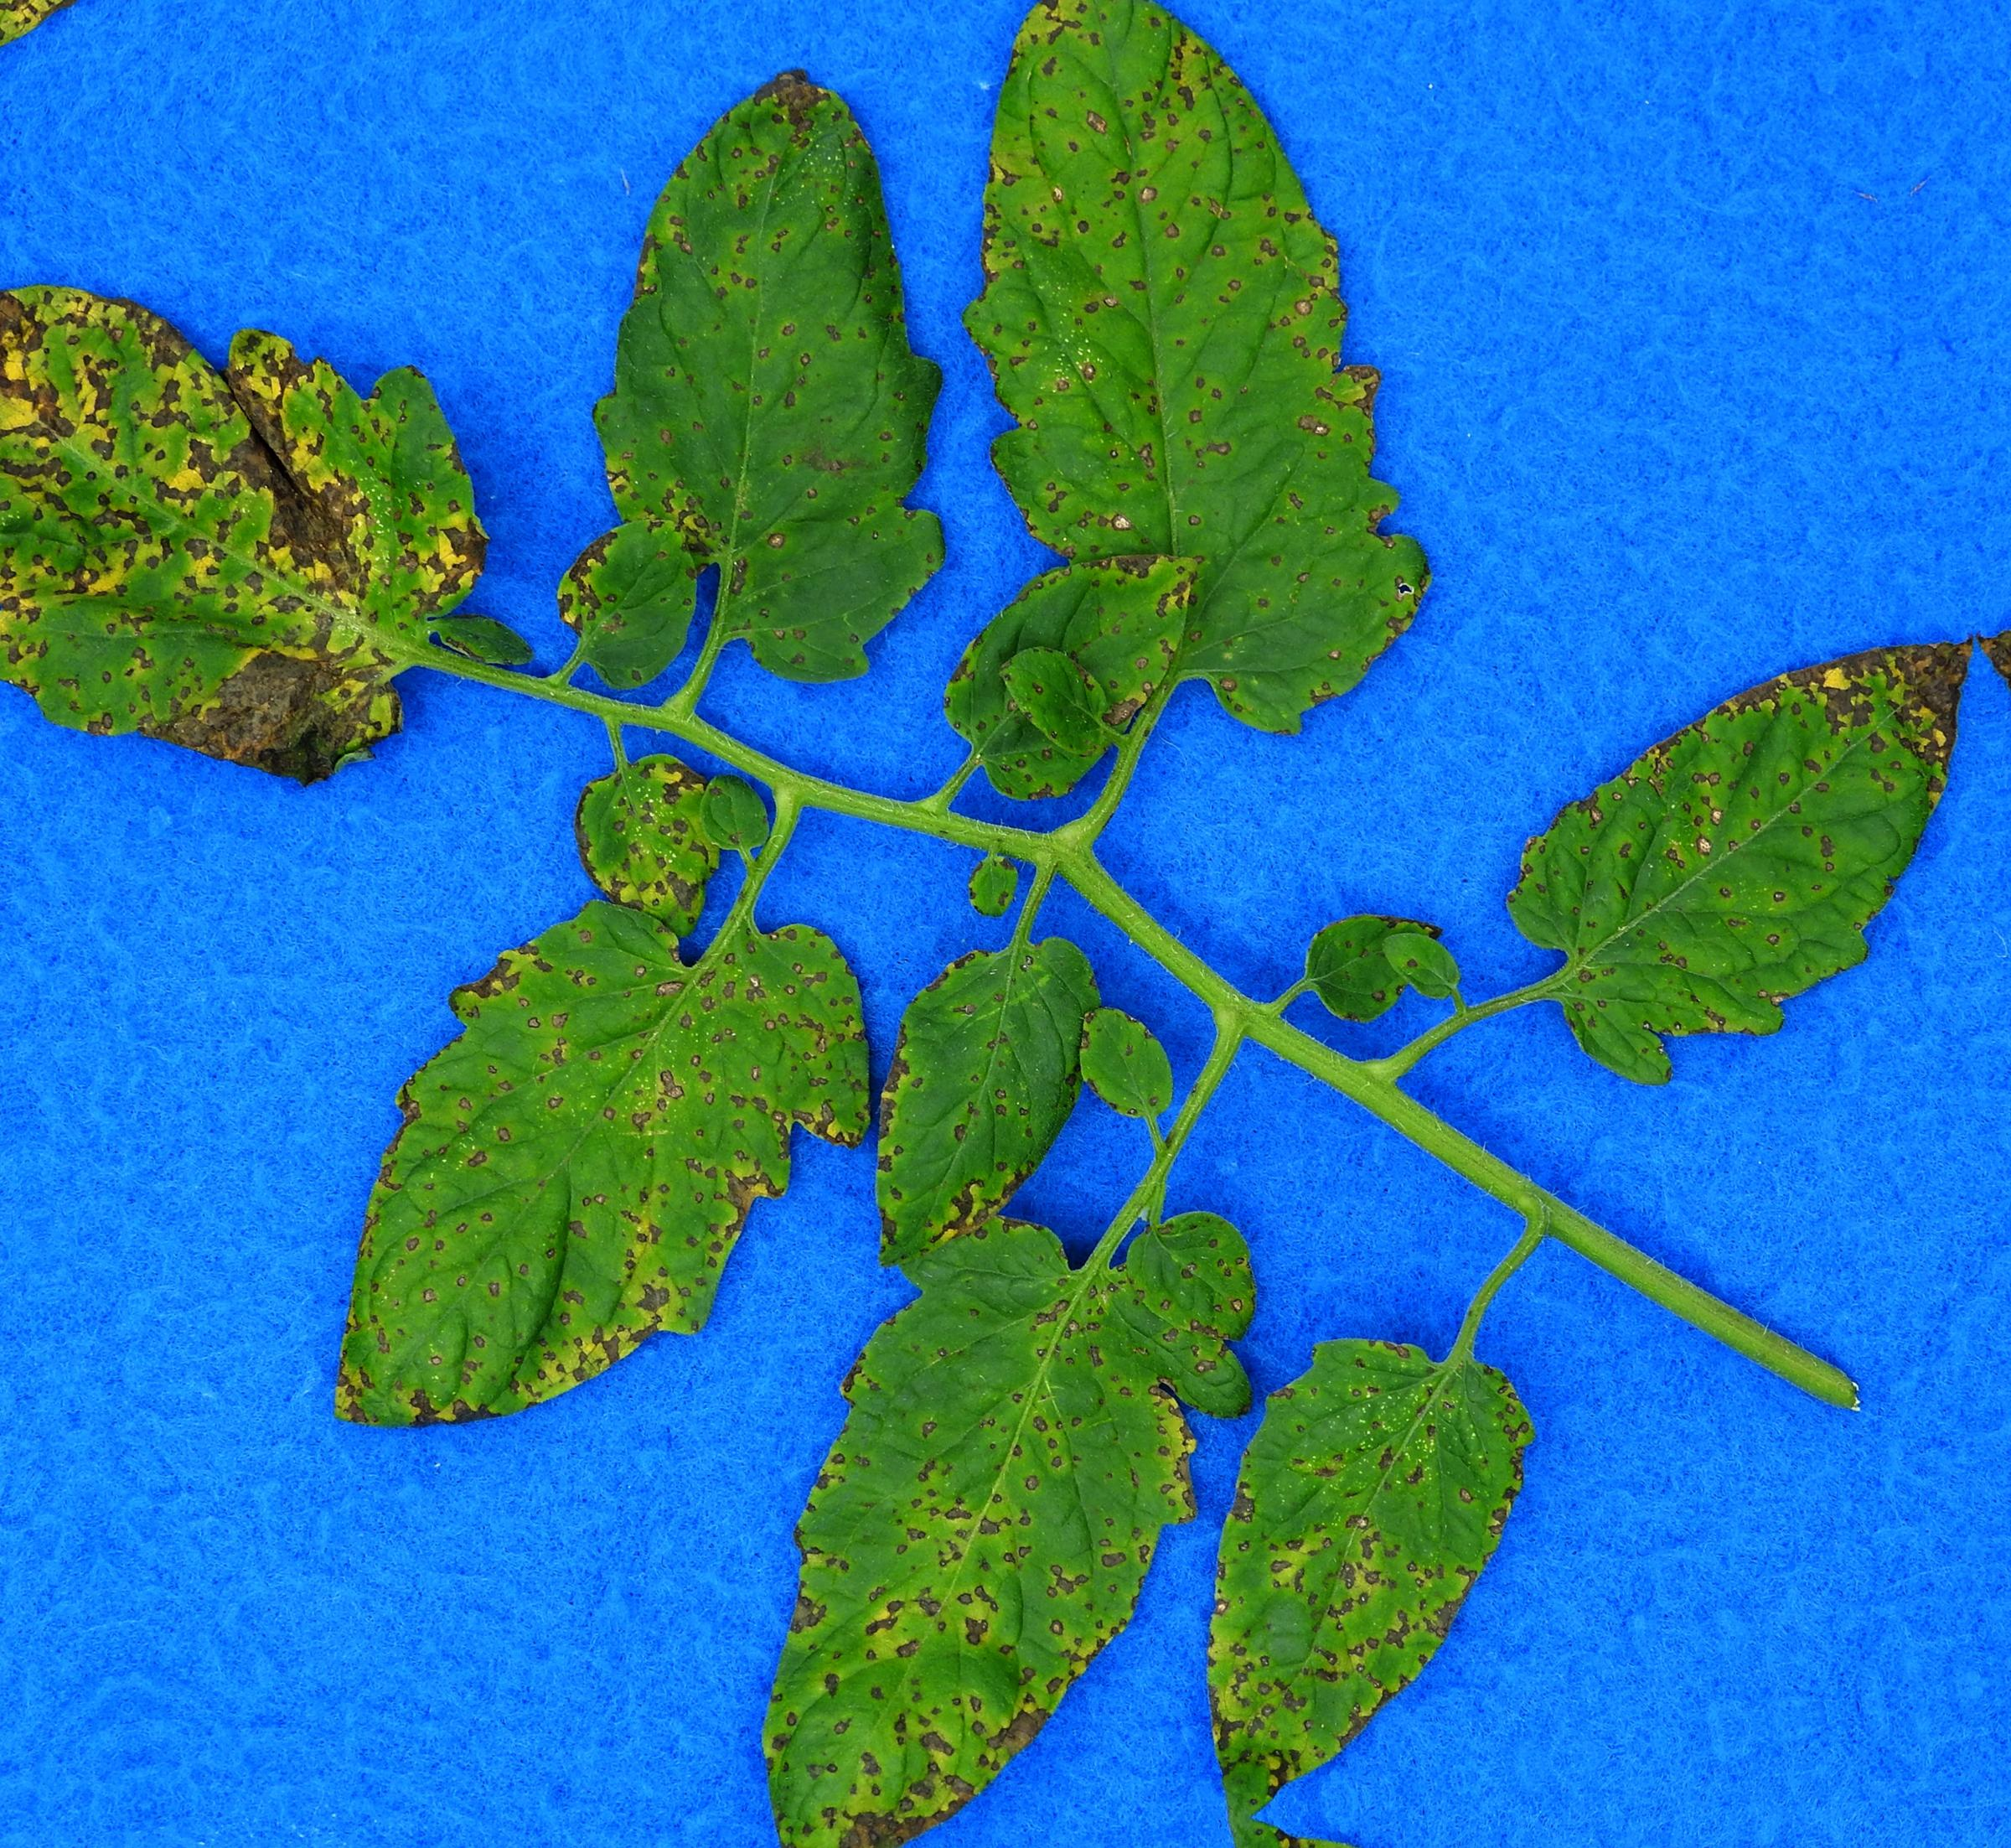Tomato Septoria leaf spot: (878, 0, 1480, 893), (661, 1142, 1317, 1848), (405, 13, 1026, 747), (253, 848, 933, 1467), (0, 158, 554, 885), (1452, 580, 2011, 1139), (1117, 1271, 1607, 1822), (812, 912, 1138, 1271), (875, 525, 1245, 831)
